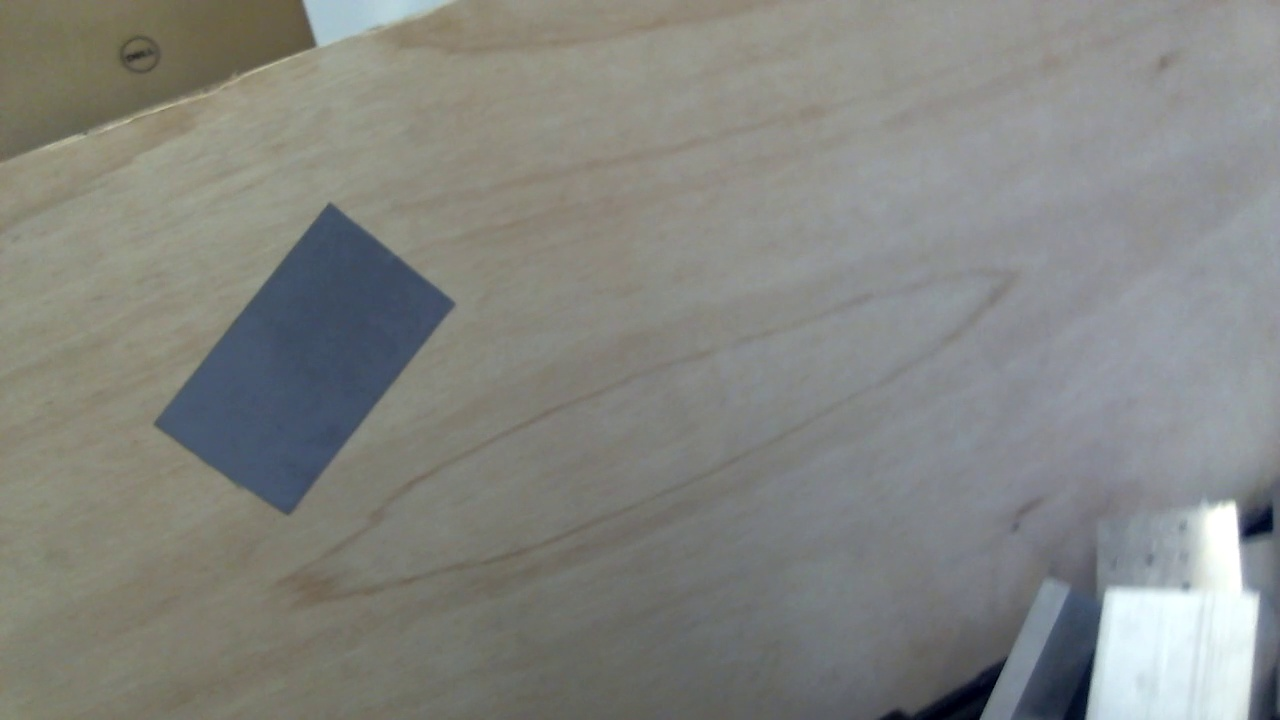Tape: (151, 202, 457, 517)
